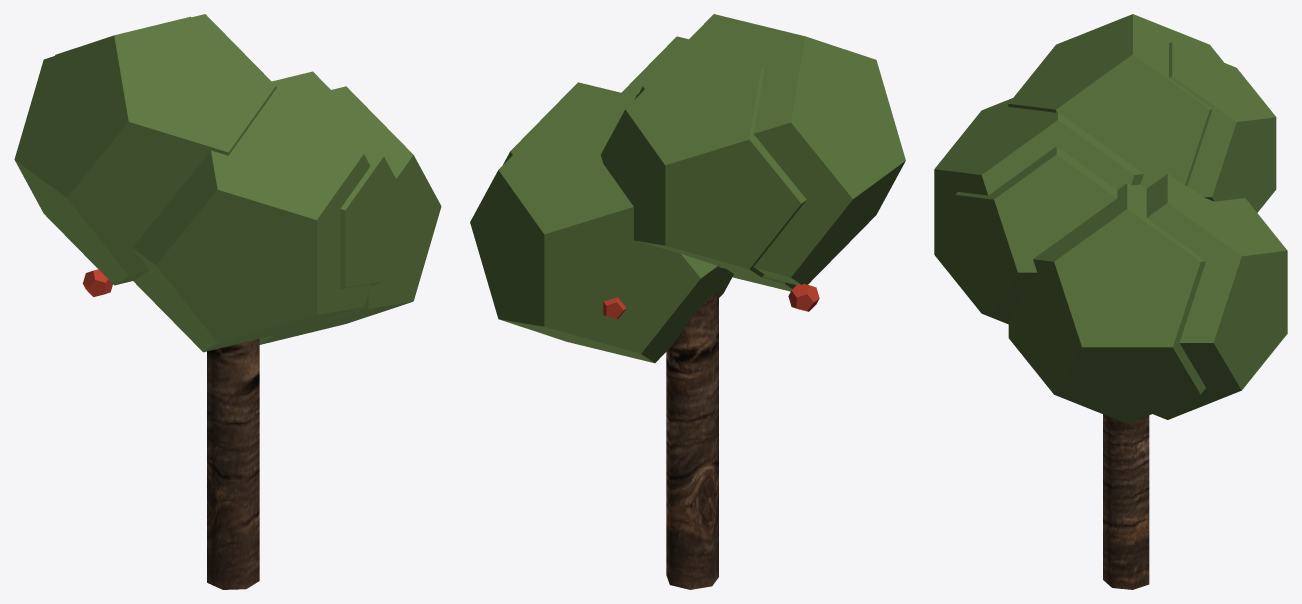
File: fruitTree.glb
3 renders of one model, left to right at view 1: azimuth 30°, elevation 25°; view 2: azimuth 150°, elevation 25°; view 3: azimuth 270°, elevation 25°, orthographic. The views are drawn at different scales.
Visible parts, largest first — view 1: part_1, part_0, part_2; view 2: part_1, part_0, part_2; view 3: part_1, part_0.
Boxes of the visible parts, left/top/right/bottom form: part_1: left=14, top=14, right=441, bottom=352; part_0: left=207, top=339, right=259, bottom=589; part_2: left=82, top=269, right=112, bottom=296; part_1: left=470, top=14, right=905, bottom=363; part_0: left=666, top=292, right=718, bottom=589; part_2: left=603, top=283, right=819, bottom=319; part_1: left=934, top=14, right=1287, bottom=423; part_0: left=1103, top=414, right=1149, bottom=589.
Size of the model in its own units: 0.9567 by 1.4 by 0.8678.
3 materials, 1 textured.
